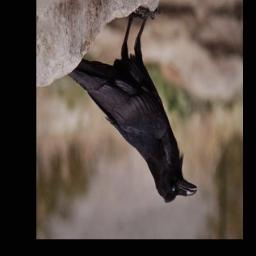Crow: (65, 11, 199, 210)
